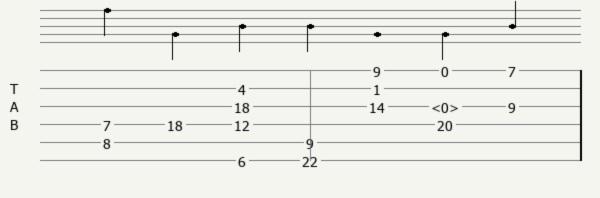0: (441, 63, 453, 77)
1: (373, 81, 385, 95)
12: (234, 117, 254, 131)
14: (369, 99, 389, 113)
18: (167, 117, 187, 131), (234, 99, 254, 113)
20: (437, 117, 457, 131)
22: (302, 153, 322, 167)
4: (238, 81, 250, 95)
6: (238, 153, 250, 167)
7: (103, 117, 115, 131), (508, 63, 520, 77)
8: (103, 135, 115, 149)
9: (306, 135, 318, 149), (373, 63, 385, 77), (508, 99, 520, 113)
harmonic: (431, 99, 463, 113)
